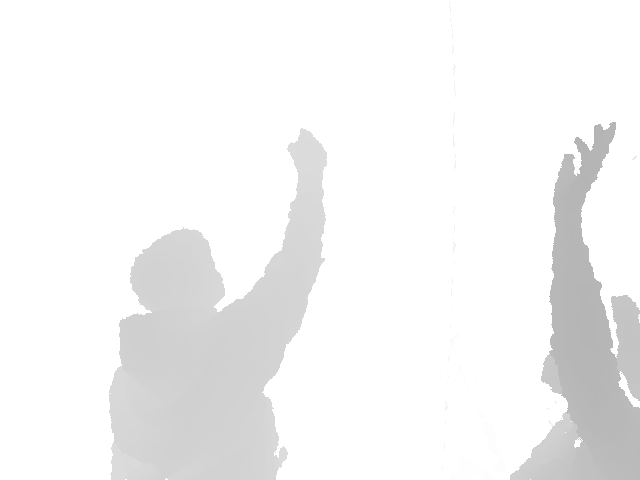hand: (552, 122, 616, 210), (286, 127, 328, 185)
head: (543, 294, 640, 402), (128, 228, 225, 314)
person: (107, 127, 330, 480), (506, 122, 640, 480)
